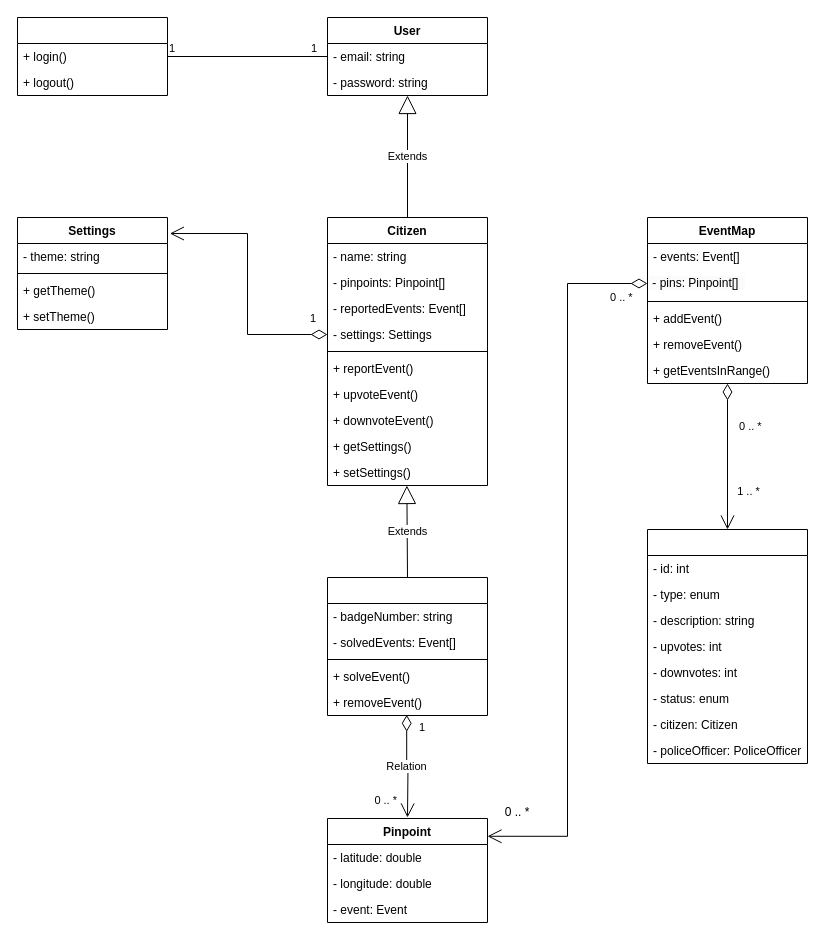
Image size: 825x943. Some labels were removed from this diagram. Each missing label, with the box of its shape:
Authentication: (16, 16, 168, 96)
Event: (646, 528, 808, 764)
PoliceOfficer: (326, 576, 488, 716)
